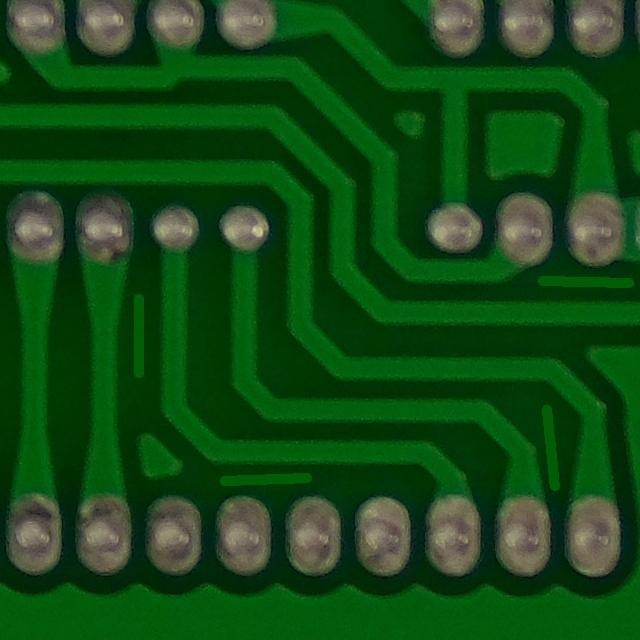spurious_copper: (524, 253, 640, 310), (204, 448, 327, 501), (117, 279, 162, 396), (526, 396, 574, 492)
